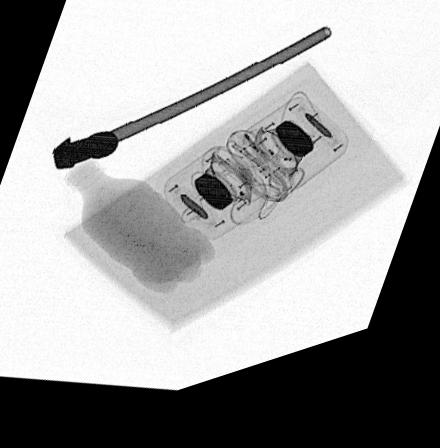Hammer: (50, 46, 333, 173)
